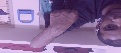hand: (49, 8, 79, 31)
